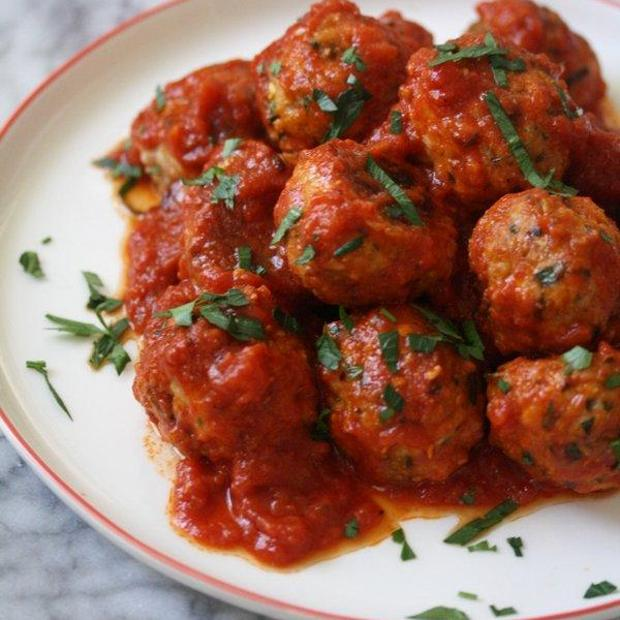meatballs: (186, 92, 581, 465)
